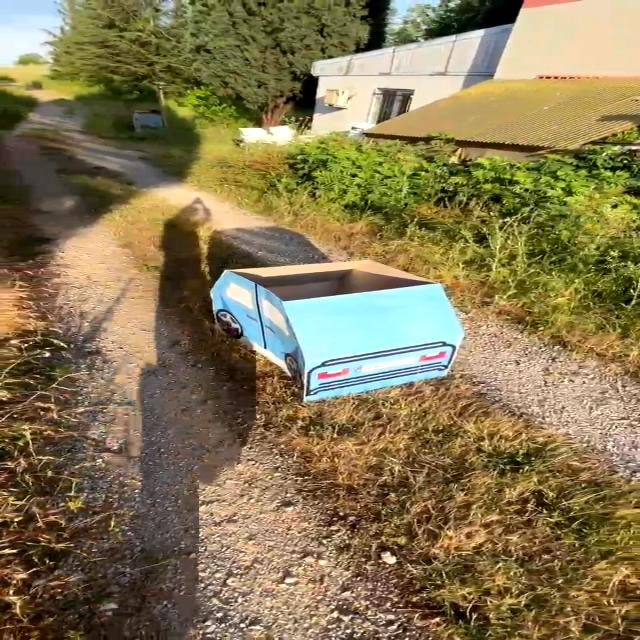blue_car: (155, 243, 500, 413)
